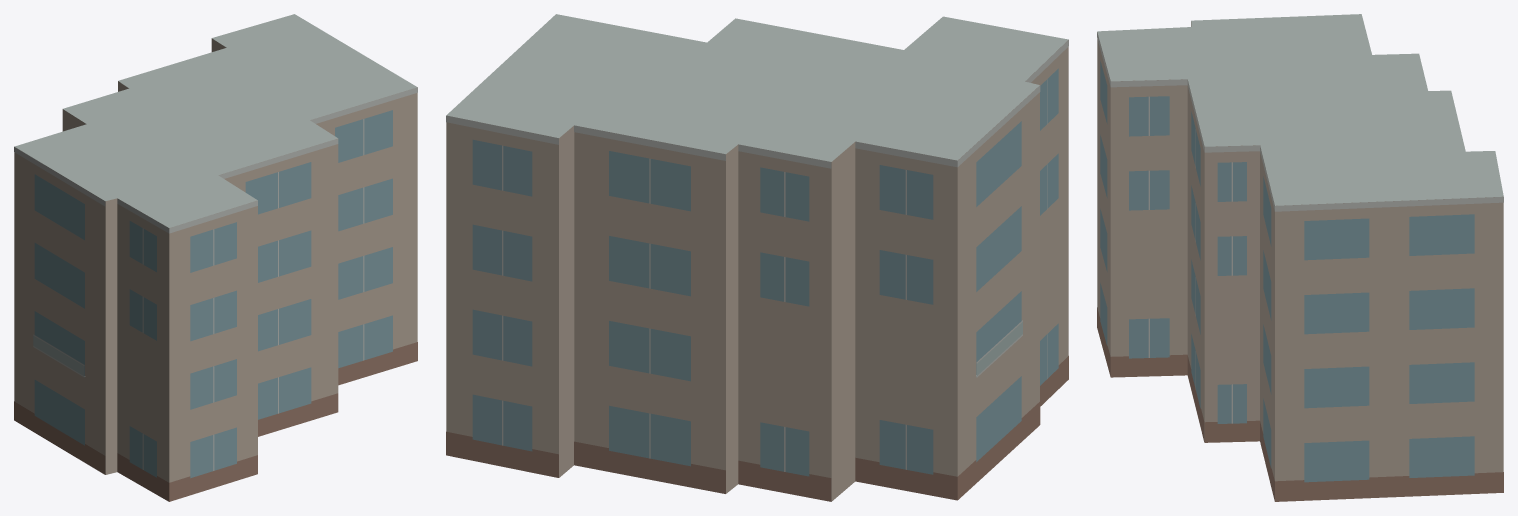
Rendered from survey-upis-32607054.glb.
The picture shows the model from 3 angles, left to right: view 1: azimuth 30°, elevation 25°; view 2: azimuth 150°, elevation 25°; view 3: azimuth 270°, elevation 25°; orthographic projection. The views are drawn at different scales.
Parts seen in each view (by area): view 1: survey-upis-32607054.tmp; view 2: survey-upis-32607054.tmp; view 3: survey-upis-32607054.tmp.
Part boxes in pixels (bbox=[...]): survey-upis-32607054.tmp: bbox=[14, 14, 417, 501]; survey-upis-32607054.tmp: bbox=[446, 14, 1068, 501]; survey-upis-32607054.tmp: bbox=[1097, 14, 1503, 501].
Bounding box in the file's own units: 16.96 × 12.2 × 15.2.
